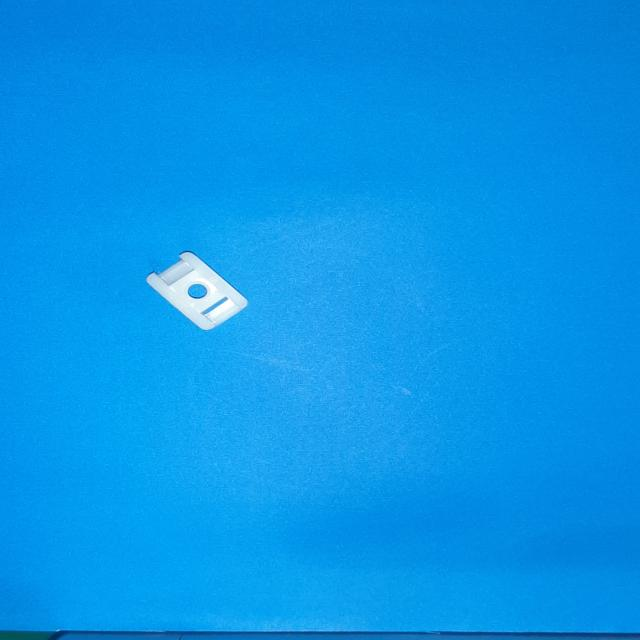false_1: (147, 251, 248, 330)
